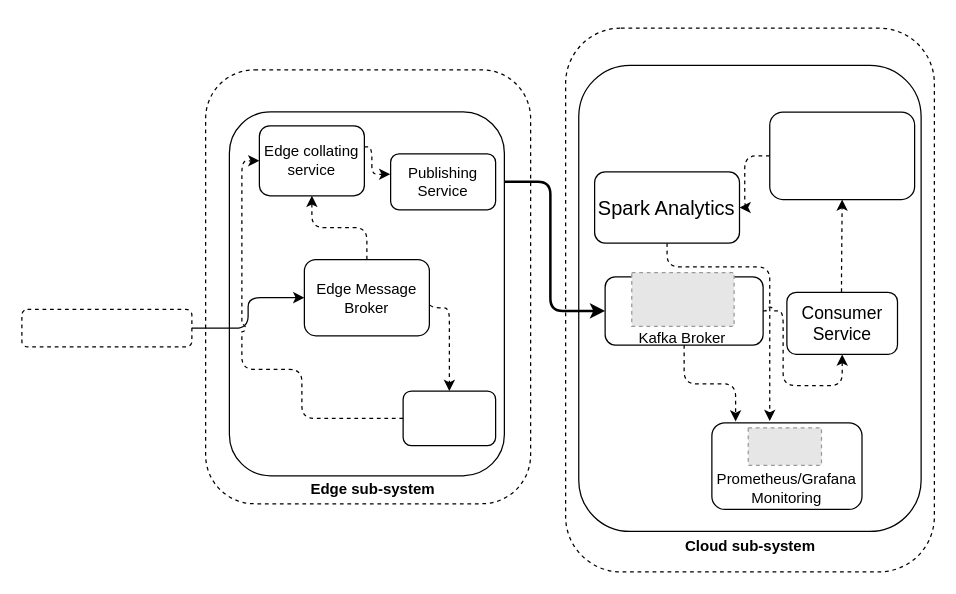
The diagram is 956 pixels wide and 594 high, and some of its shapes have lost their labels. Grey dashed boxes stand in for pictures. The shapes that lost their labels are listed below. From the top down, each one's centre as x and y in pixels, then its label:
the point at 841,155: Cloud Database
the point at 106,327: IoT sub-system
the point at 449,418: Edge Analytics
